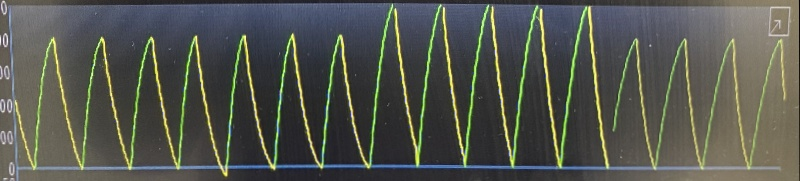normal_volume: (21, 2, 755, 173)
